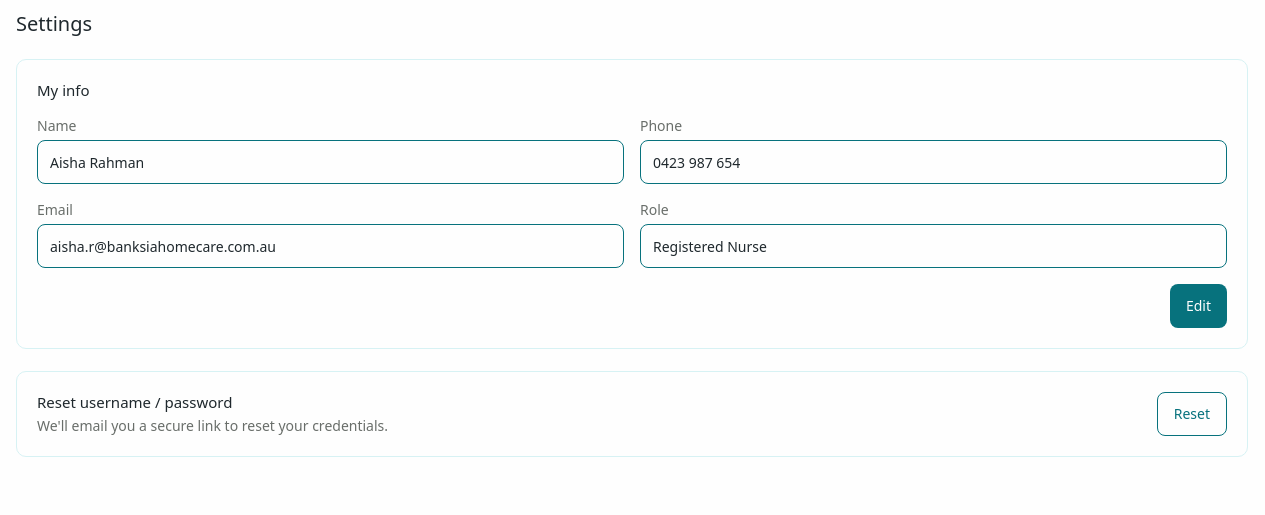
[CAR-09][AC-04] Save goes through the server action › [CAR-09][AC-04] Save sends the trimmed name, phone and email once, then shows 'Saved.' and locks the fields
Click the button "Edit".
click(1198, 306)  # box [1170,284,1227,328]
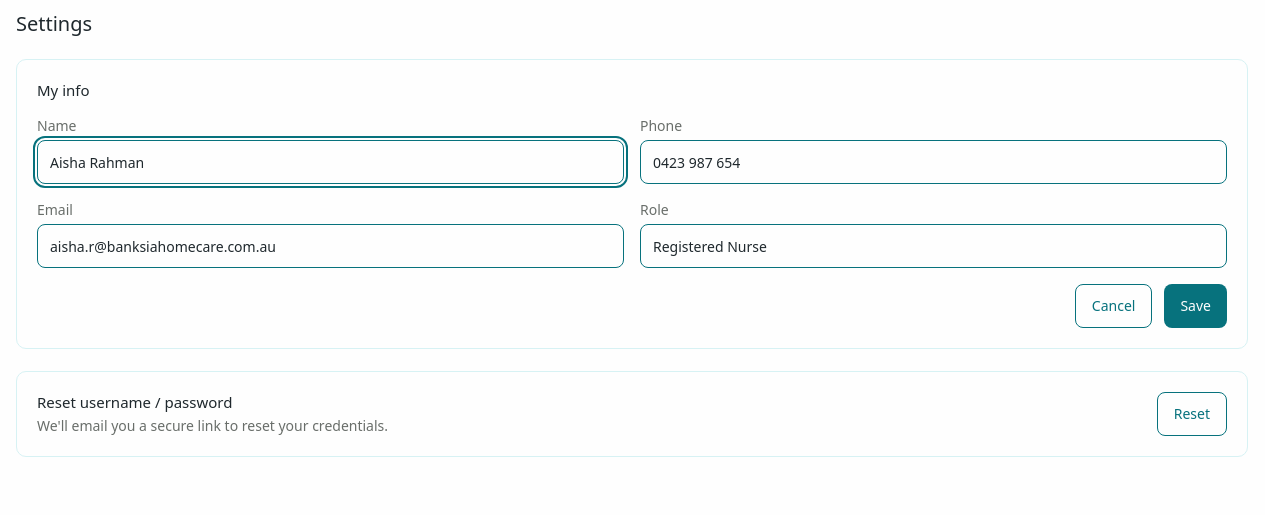
Replace the text in the field labelled "Phone" with "  0400 111 222 " at (934, 162), box [640,140,1227,184]
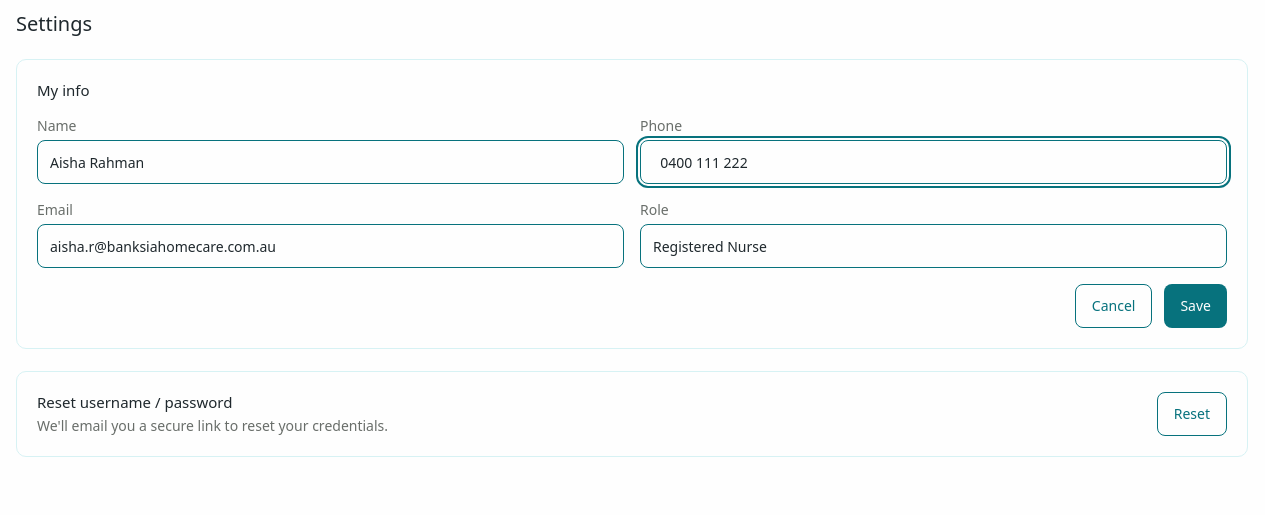
Click the button "Save".
click(1196, 306)  # box [1164,284,1227,328]
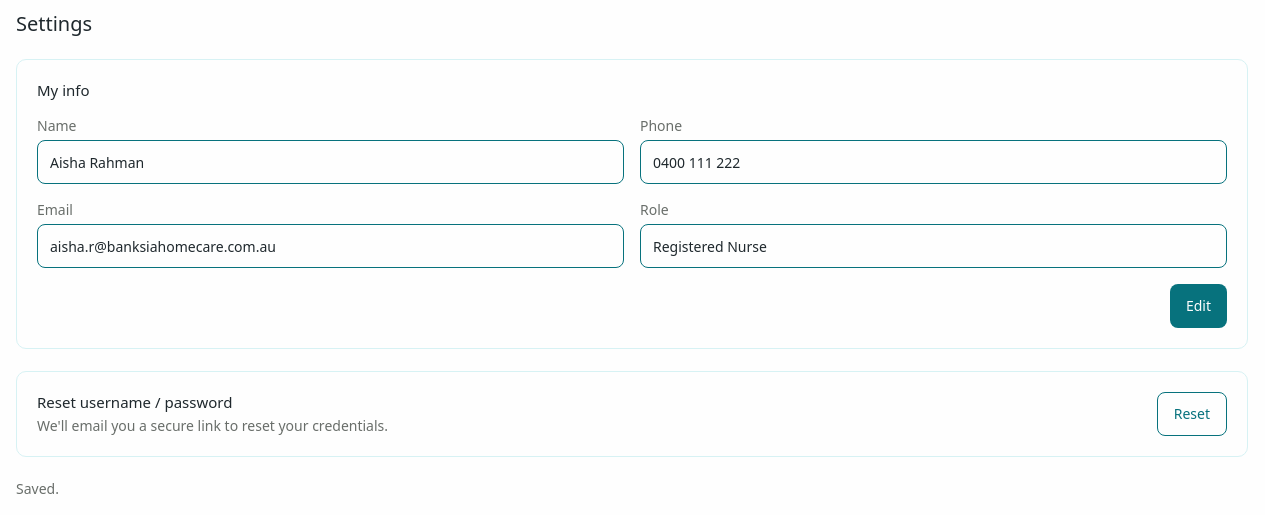
Check: the text "Saved." is shown, box [16,479,59,498]
